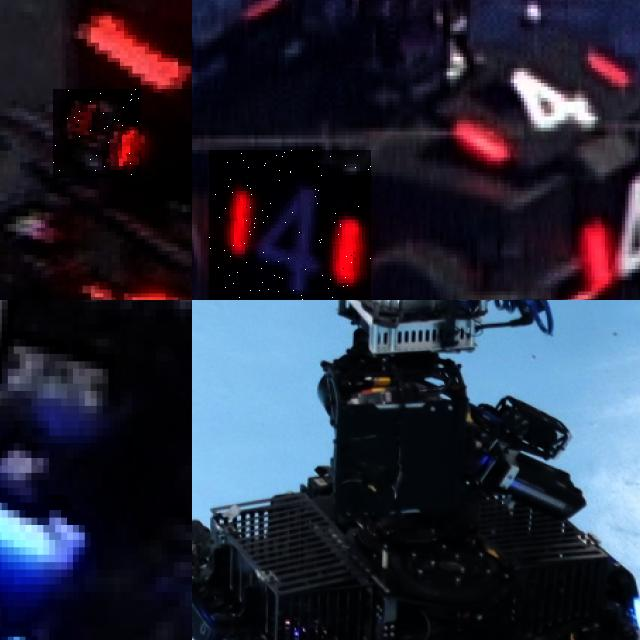R2: (53, 89, 141, 178)
R4: (440, 19, 640, 168), (209, 149, 370, 300), (562, 155, 640, 300)
